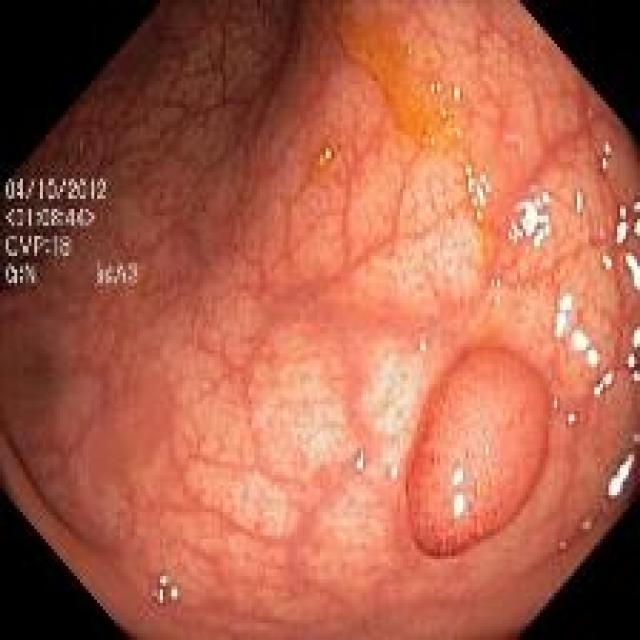Polyps: (406, 349, 549, 558)
